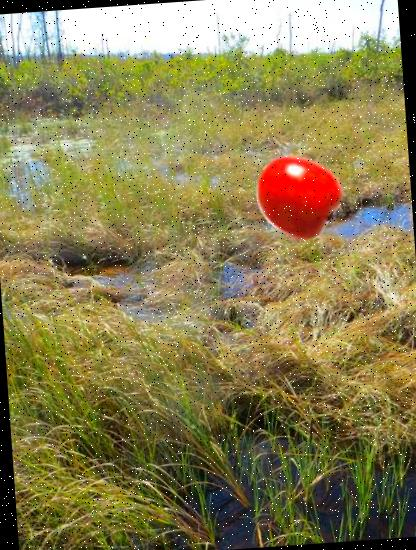Tomato: (250, 150, 340, 239)
